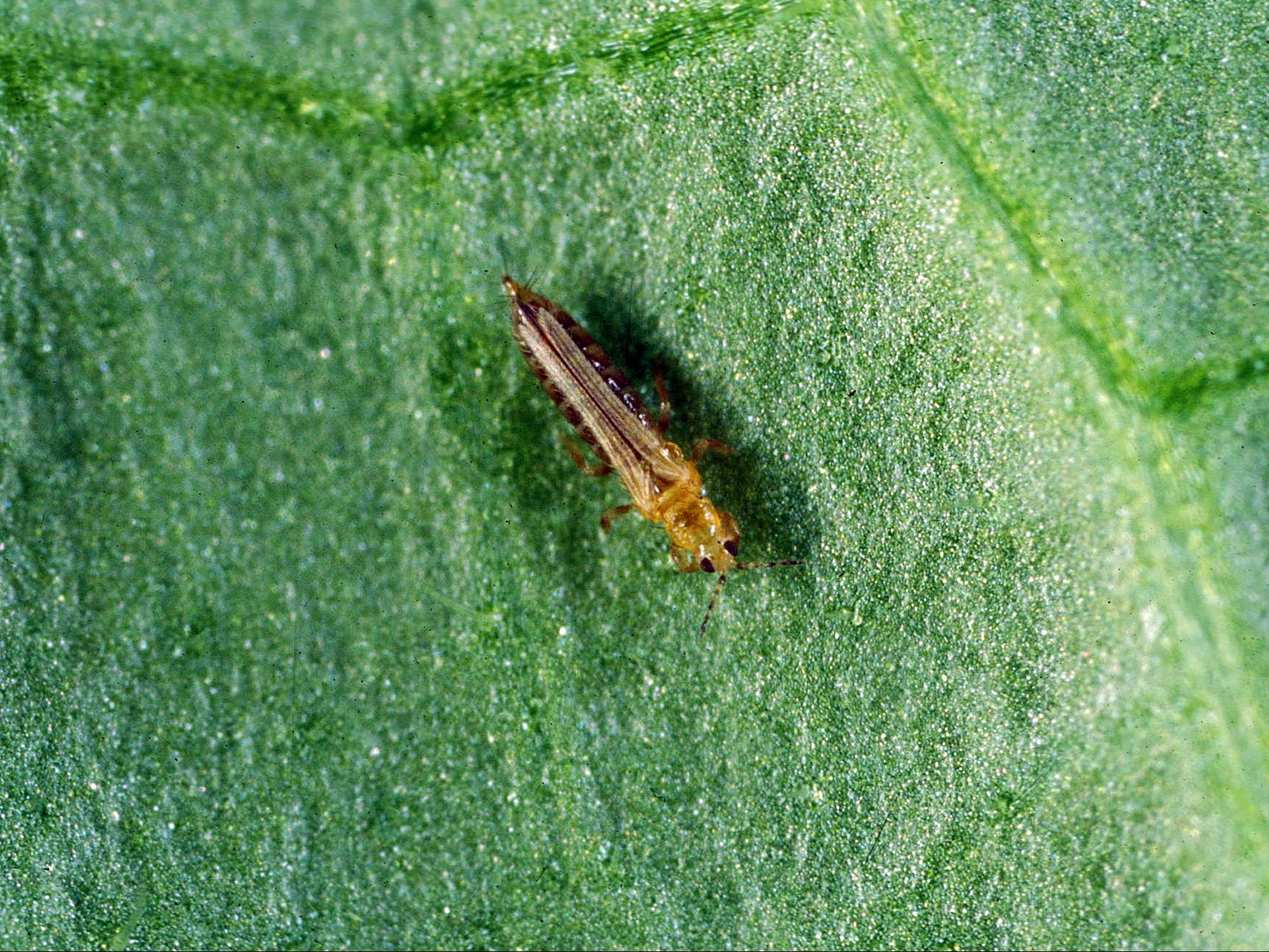Thripidae: (487, 259, 804, 630)
